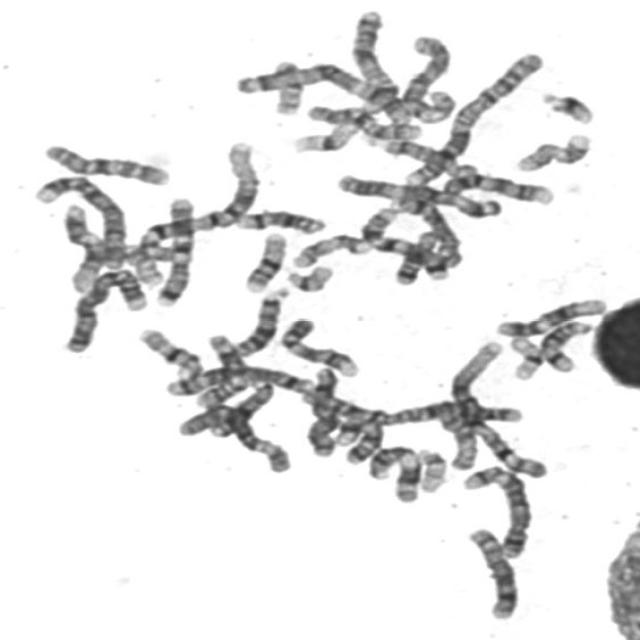A1: (122, 135, 266, 287), (441, 334, 554, 480)
A2: (399, 48, 548, 185), (296, 384, 526, 429)
A3: (230, 57, 416, 129), (331, 168, 505, 220)
B4: (26, 168, 131, 272), (56, 262, 150, 355)
B5: (455, 458, 536, 560), (158, 360, 320, 398)
C10: (38, 138, 174, 188), (301, 99, 426, 142)
C11: (192, 328, 250, 410), (362, 440, 425, 504)
C12: (491, 292, 612, 339), (59, 203, 109, 295)
C6: (172, 399, 296, 475), (394, 28, 458, 124)
C7: (355, 199, 454, 282), (151, 190, 199, 308)
C8: (461, 523, 523, 621), (393, 192, 466, 272)
C9: (274, 313, 364, 379), (438, 167, 558, 207)
D13: (226, 282, 294, 358), (202, 375, 278, 440)
D14: (536, 316, 597, 373), (230, 204, 331, 236)
D15: (378, 134, 482, 179), (432, 399, 482, 471)
E16: (132, 323, 208, 380), (238, 226, 291, 294)
E17: (510, 127, 596, 173), (287, 227, 375, 270)
E18: (391, 226, 445, 286), (341, 419, 385, 467)
F19: (288, 117, 358, 155), (504, 330, 548, 381)
F20: (266, 55, 308, 116), (118, 239, 169, 286)
G21: (535, 86, 599, 126), (328, 411, 366, 446)
G22: (412, 443, 452, 494), (280, 260, 338, 294)
X: (347, 11, 403, 115), (300, 362, 341, 458)
